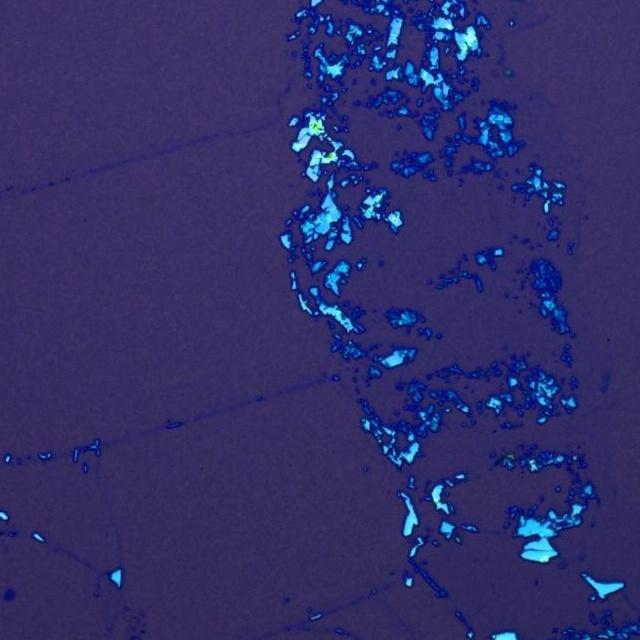monolayer-eWW4: (2, 586, 17, 602)
